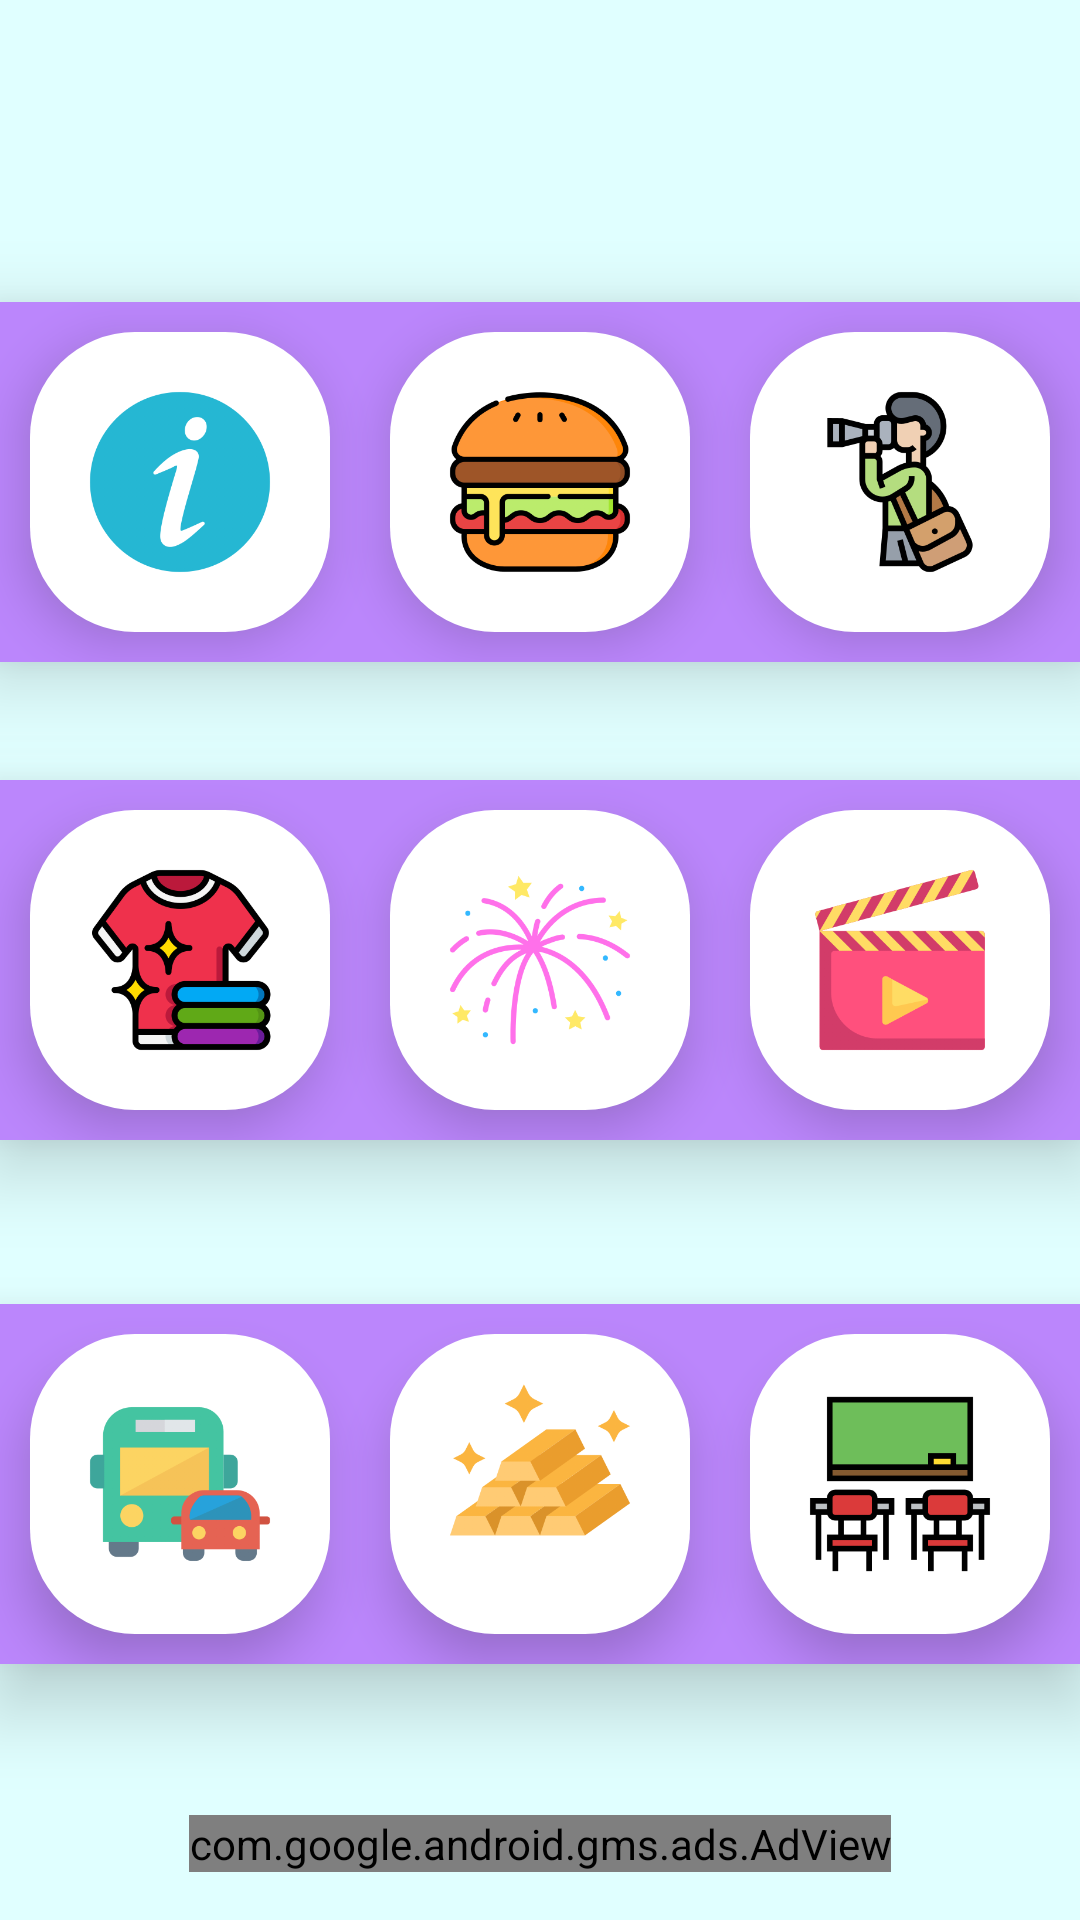

Screen size 1080px×1920px. Icon name, then its box in pixels as Rect(x1, y1, x2, y2):
about: Rect(30, 332, 330, 632)
classroom: Rect(750, 1334, 1050, 1634)
cloth shopping: Rect(30, 810, 330, 1110)
fireworks: Rect(390, 810, 690, 1110)
food courts: Rect(390, 332, 690, 632)
gold shop: Rect(390, 1334, 690, 1634)
theaters: Rect(750, 810, 1050, 1110)
tourism: Rect(750, 332, 1050, 632)
vehicles transport: Rect(30, 1334, 330, 1634)
